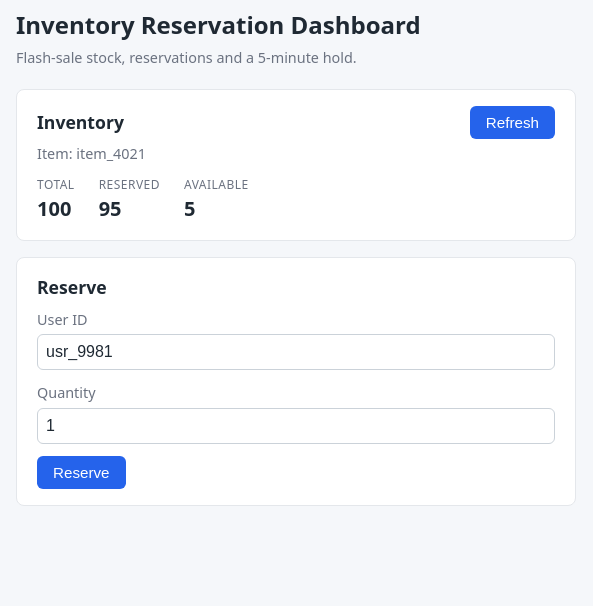
Test case: App › surfaces an insufficient-stock error without creating a reservation
Replace the text in the number field labelled "Quantity" with "50" at (296,426), box [37,408,555,444]
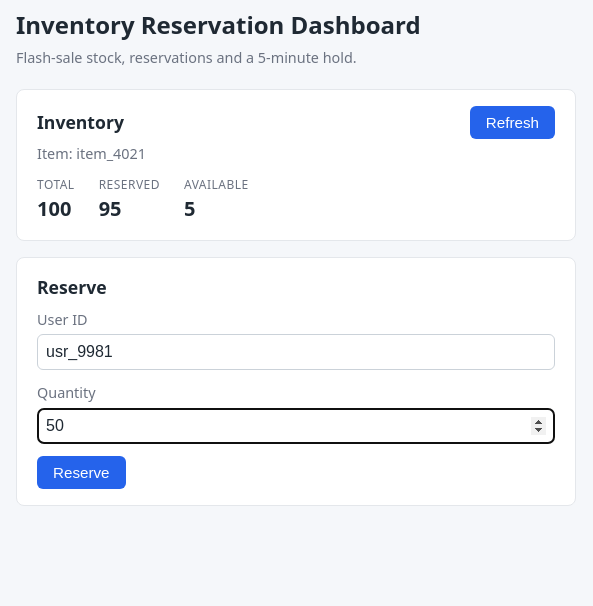
Click the button "Reserve" at (81,472), box [37,456,126,489]
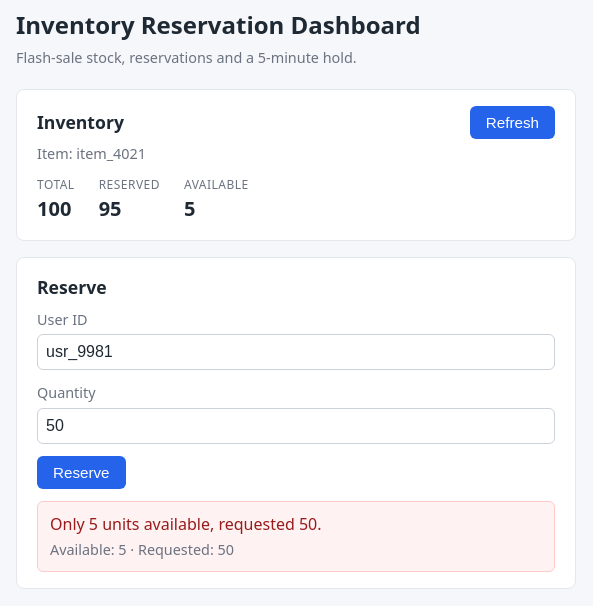
expect the message shows "Only 5 units available, requested 50.": met, box [50,513,322,535]
